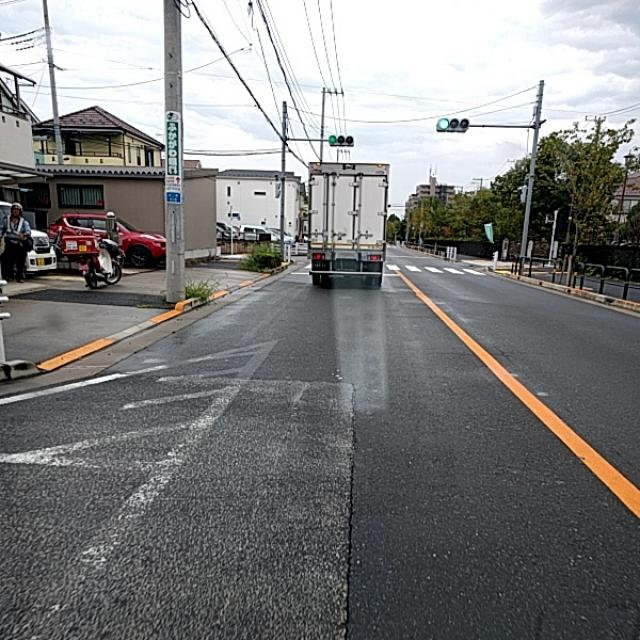pothole: (345, 475, 382, 613)
